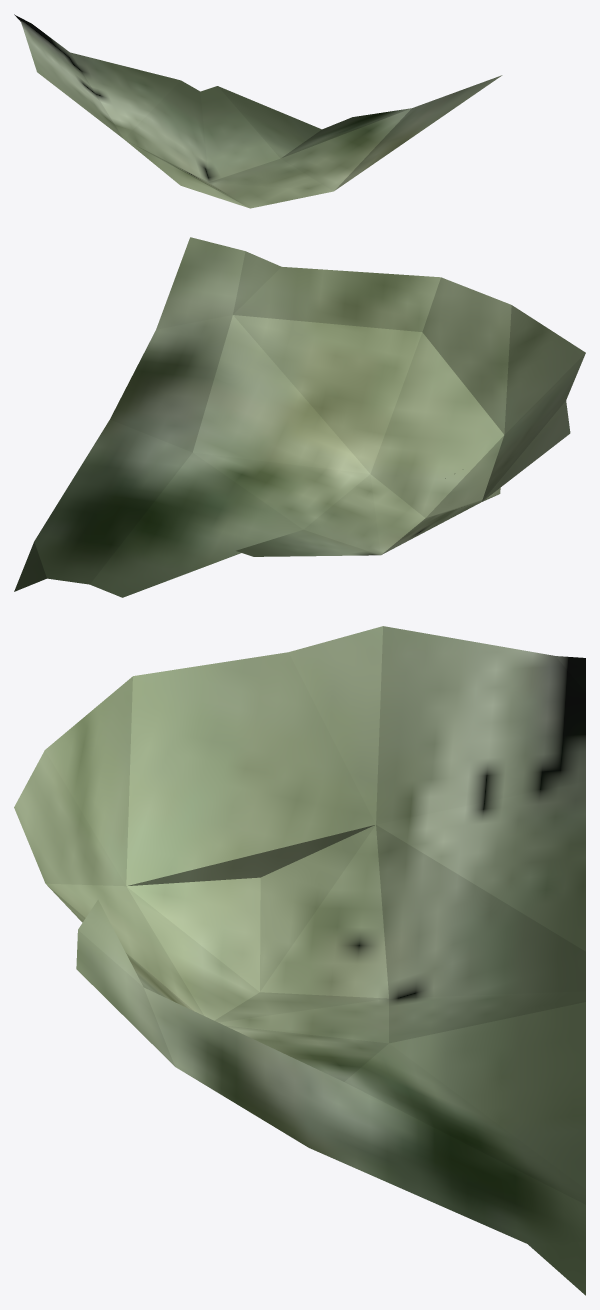
3 views of the same model, one above another, from view 1: azimuth 30°, elevation 25°; view 2: azimuth 150°, elevation 25°; view 3: azimuth 270°, elevation 25° (orthographic). The views are drawn at different scales.
Bounding box in the file's own units: 0.477 × 0.2117 × 0.336.
1 material, 1 textured.
